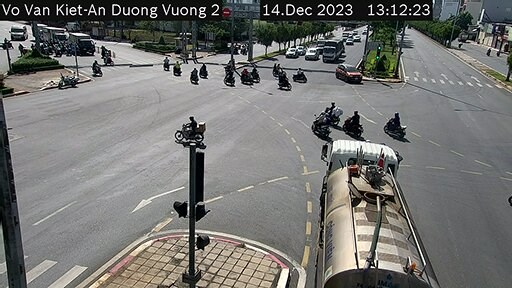car: (306, 46, 319, 61), (283, 48, 299, 58)
motorbike: (385, 106, 410, 139), (349, 107, 367, 137), (323, 97, 339, 126), (248, 61, 263, 89), (293, 63, 311, 85), (310, 108, 328, 128), (277, 71, 290, 95), (241, 67, 256, 86), (186, 66, 200, 86), (196, 61, 208, 79), (170, 60, 182, 77), (160, 57, 171, 68)
truck: (309, 136, 440, 283), (39, 24, 69, 45), (322, 37, 344, 64), (69, 33, 95, 53)
